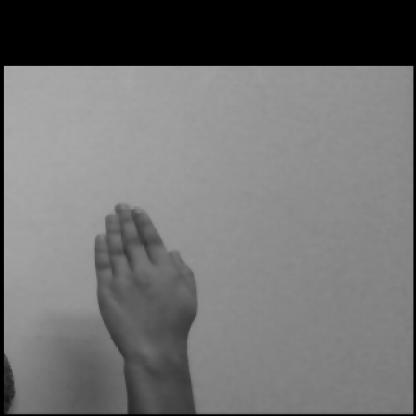palm: (52, 187, 220, 362)
